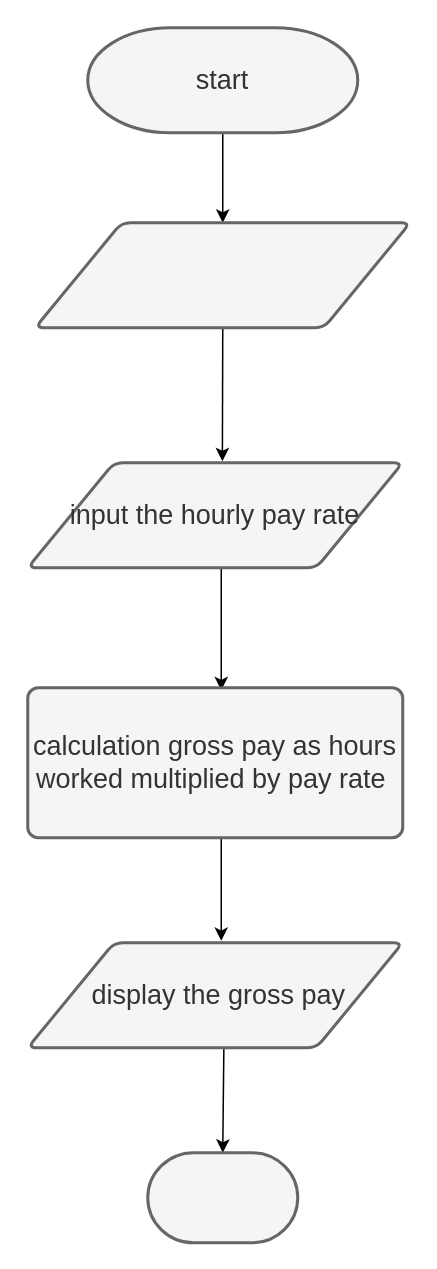
The diagram is 437 pixels wide and 1269 high, and some of its shapes have lost their labels. Here are the shapes that lost their labels. From the top down, the centre of each, then its label:
At (222,274): "input the hours works".
At (222,1197): "End".
